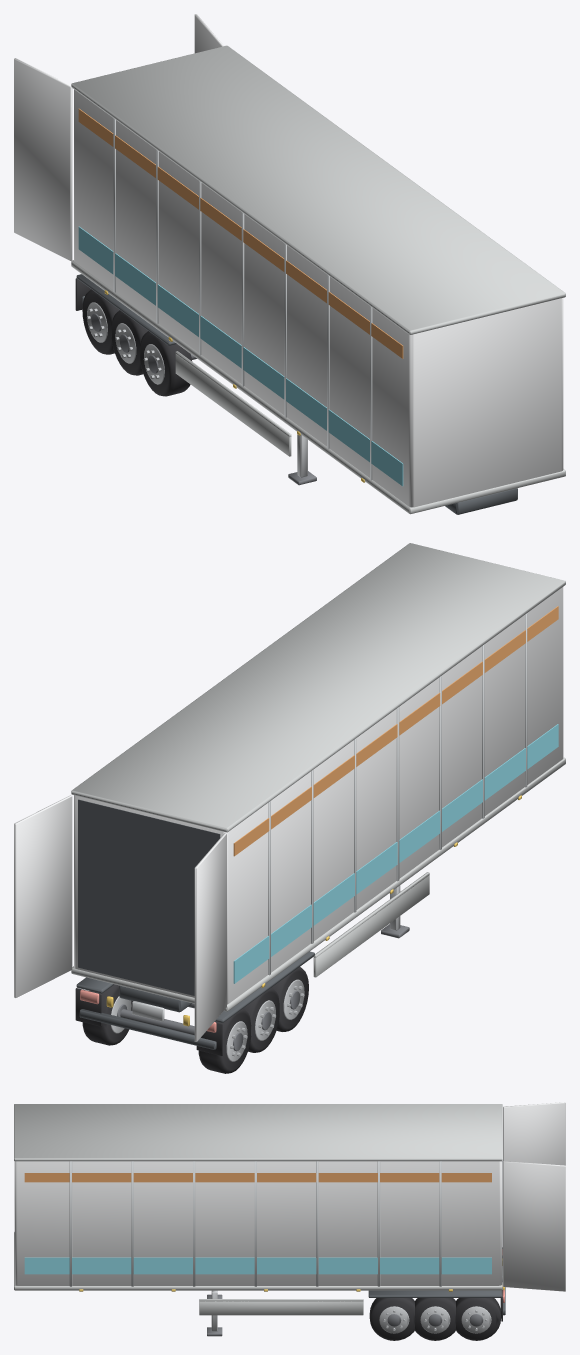
Rendered from trailer_removal.glb.
3 renders of one model, top to bottom at view 1: azimuth 30°, elevation 25°; view 2: azimuth 150°, elevation 25°; view 3: azimuth 270°, elevation 25°, orthographic. The views are drawn at different scales.
Visible parts, largest first — view 1: Body; view 2: Body; view 3: Body.
Boxes of the visible parts, left/top/right/bottom form: Body: left=14, top=14, right=565, bottom=514; Body: left=14, top=543, right=565, bottom=1073; Body: left=14, top=1102, right=565, bottom=1340.
Bounding box in the file's own units: 2.97 × 4.02 × 10.75.
